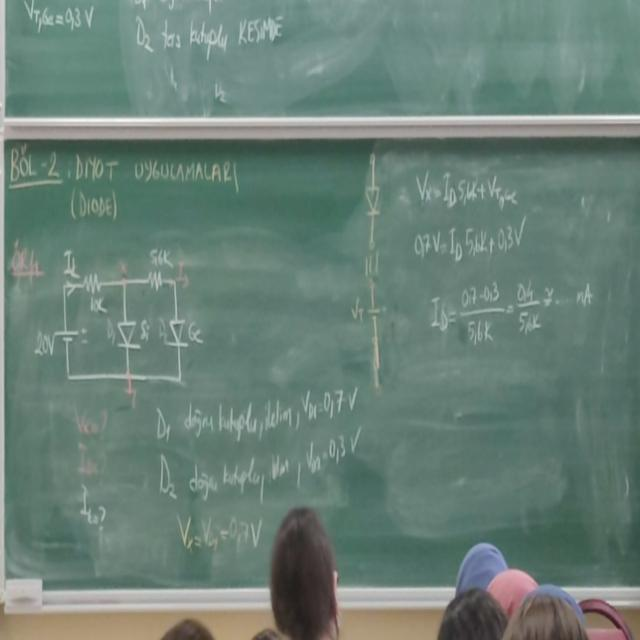image: (42, 240, 209, 406), (356, 143, 388, 257)
math: (403, 155, 534, 261), (428, 269, 595, 347), (298, 373, 368, 489), (172, 501, 270, 558), (23, 0, 97, 48)
text: (182, 387, 298, 502), (69, 146, 249, 201), (130, 9, 290, 59)
